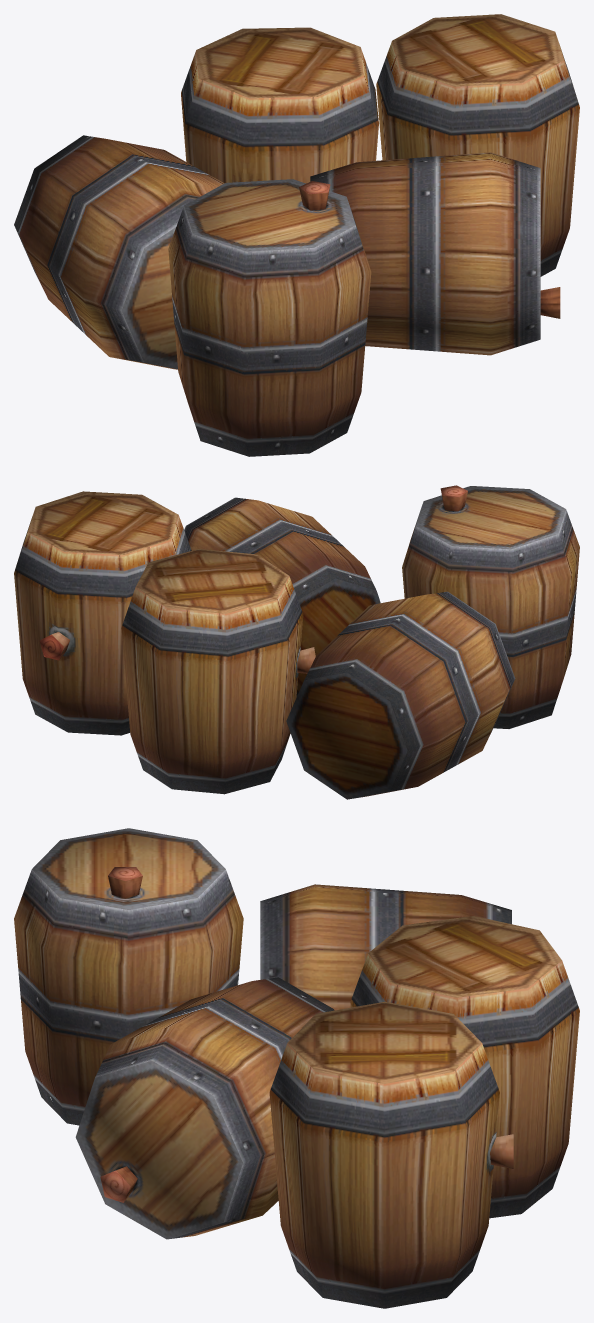
Rendered from obj_macoprdr05.glb.
3 renders of one model, top to bottom at view 1: azimuth 30°, elevation 25°; view 2: azimuth 150°, elevation 25°; view 3: azimuth 270°, elevation 25°, orthographic. The views are drawn at different scales.
Parts seen in each view (by area): view 1: part_0; view 2: part_0; view 3: part_0.
Boxes of the visible parts, bbox=[...] form: part_0: bbox=[14, 14, 579, 456]; part_0: bbox=[14, 485, 579, 799]; part_0: bbox=[14, 828, 579, 1308].
Bounding box in the file's own units: 2.62 × 1.11 × 2.26.
Materials: 2 (2 with a texture image).
